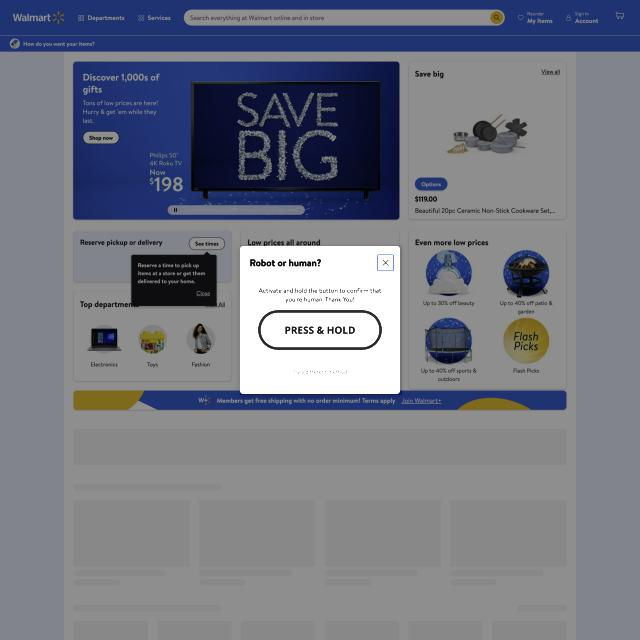CheckBox: (292, 366, 349, 378)
Input field: (258, 284, 385, 306)
breadcrumbs: (249, 256, 326, 271)
carousel: (377, 253, 395, 272)
data feed: (257, 308, 382, 351), (283, 322, 356, 338)
header: (240, 245, 402, 395)
